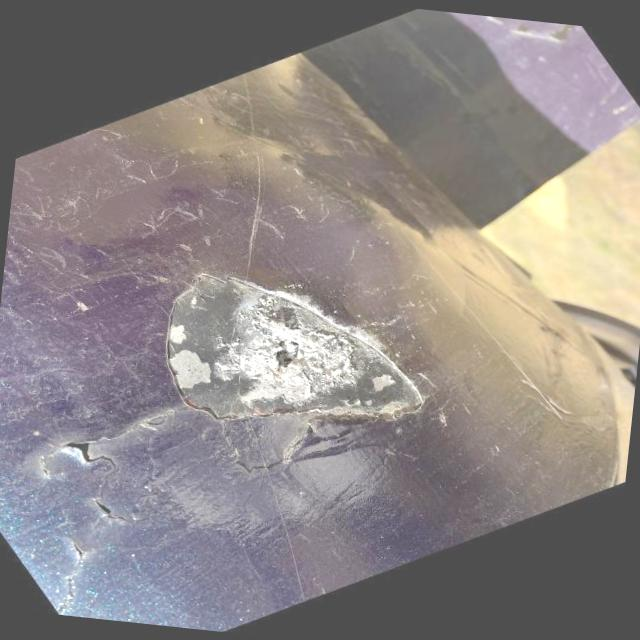crack: (31, 434, 131, 484), (46, 539, 102, 592), (65, 493, 139, 526)
dent: (143, 273, 434, 446)
